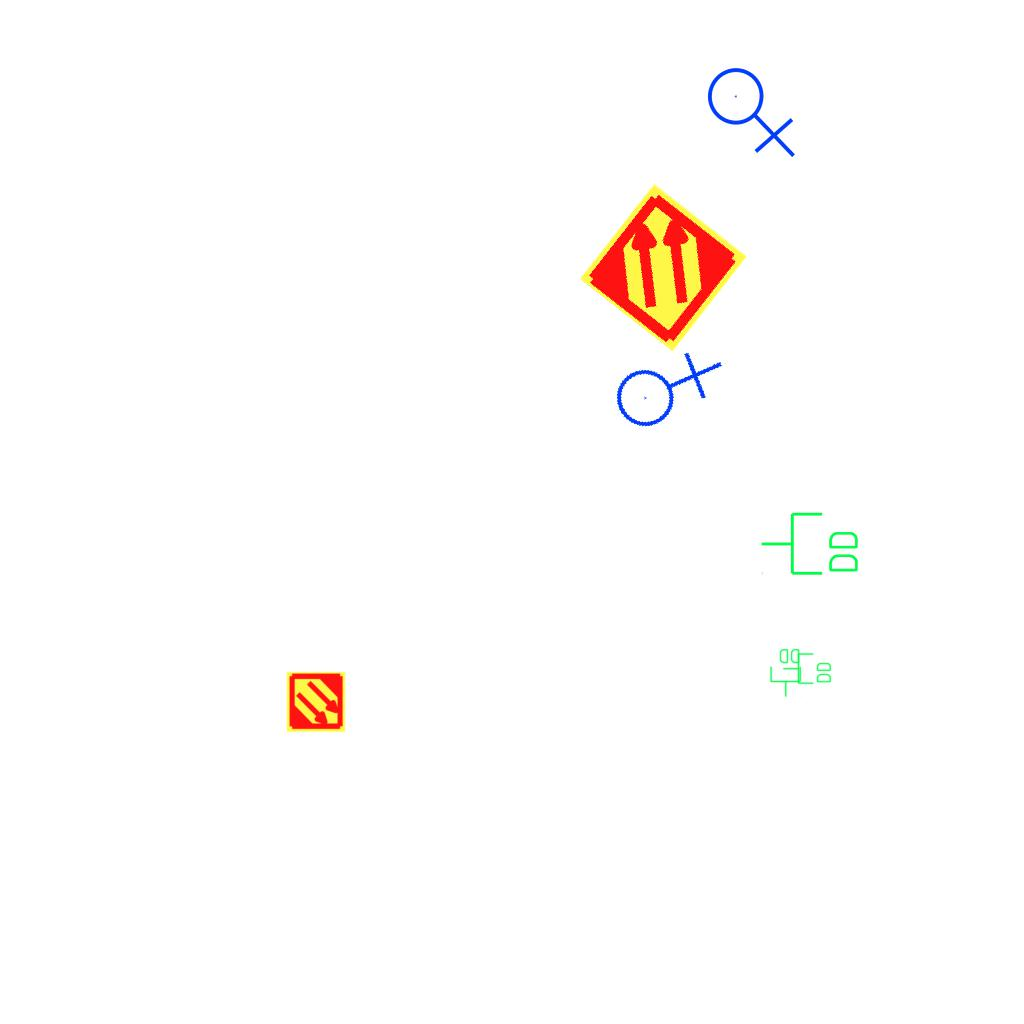ASR_Ansaugrauchmelder: (575, 179, 752, 356), (285, 671, 347, 733)
Datenanschluss_zweifach: (759, 510, 862, 579), (769, 647, 803, 698), (782, 652, 833, 686)
Elektroanschluss_allgemein_230V_Geraeteanschlussdose_230V: (599, 324, 726, 448), (706, 59, 800, 158)
